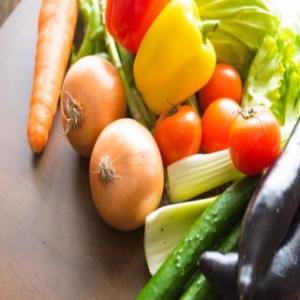carrot: (26, 0, 78, 152)
onion: (88, 120, 163, 232), (60, 54, 126, 156)
